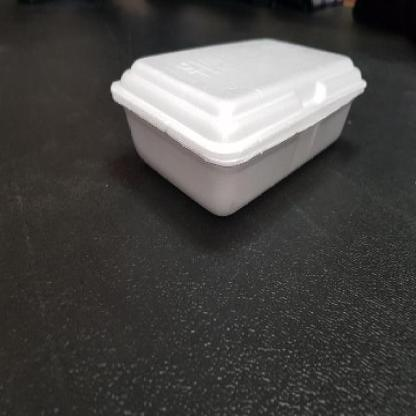Glass Cup: (110, 36, 366, 218), (111, 38, 367, 216)
